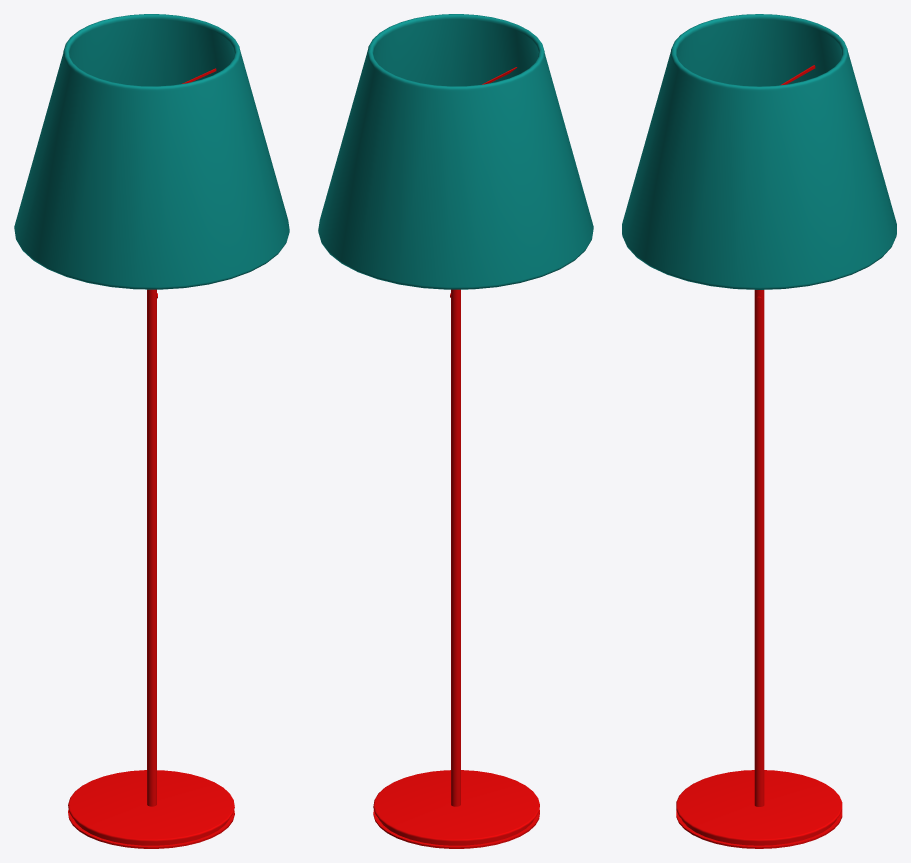
Rendered from N_LampOffice.fbx.
The picture shows the model from 3 angles, left to right: view 1: azimuth 30°, elevation 25°; view 2: azimuth 150°, elevation 25°; view 3: azimuth 270°, elevation 25°; orthographic projection.
Parts seen in each view (by area): view 1: Cylinder002; view 2: Cylinder002; view 3: Cylinder002.
Boxes of the visible parts, box(x1,y1,x2,y2) form: Cylinder002: box(14, 14, 289, 848); Cylinder002: box(318, 14, 593, 848); Cylinder002: box(622, 14, 896, 848).
Size of the model in its own units: 24.19 by 73.83 by 24.08.
